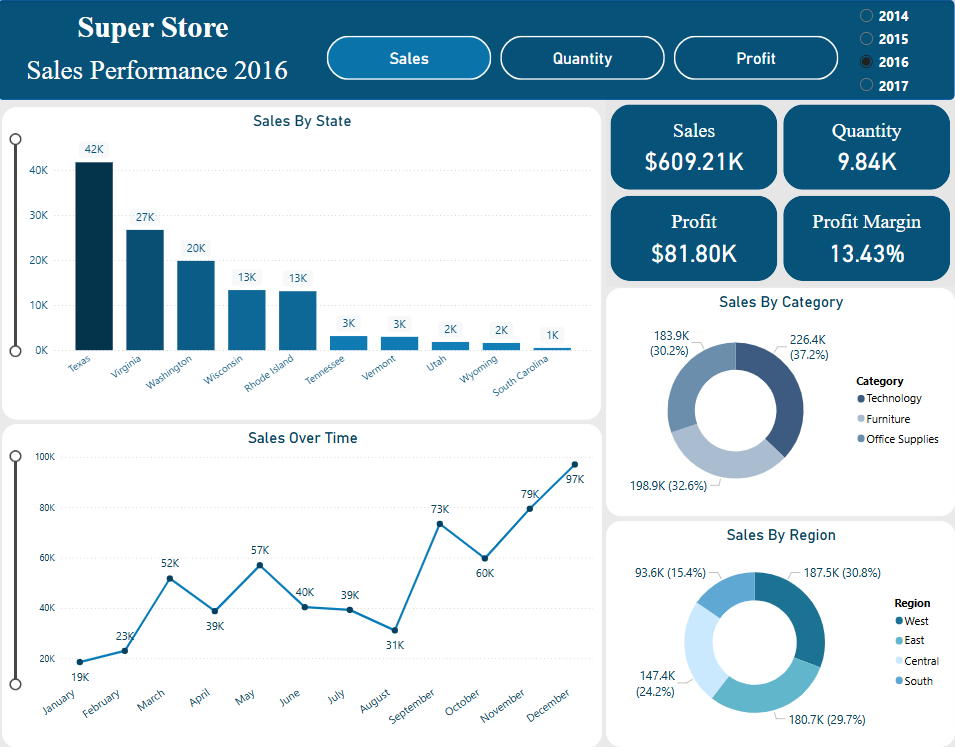

What the dashboard file says about the page in this screenshot:
{"tool":"powerbi","page":{"name":"Super Store Performance","canvas":[1280,1000],"ordinal":0},"visuals":[{"type":"shape","box":[0,0,1280,123.5],"z":0},{"type":"advancedSlicerVisual","fields":{"Values":["Slc_Values.Values"]},"box":[429.2,27.3,694.6,78.9],"z":1000},{"type":"card","fields":{"Values":["Mesures._Report title"]},"box":[33.4,0,359.4,77.3],"z":2000},{"type":"slicer","fields":{"Values":["Super_Store.Order Date.Variation.Date Hierarchy.Year"]},"box":[1139,12.1,141,110.7],"z":3000},{"type":"cardVisual","fields":{"Data":["Mesures.Sales","Mesures.Quantity","Mesures.Profit","Mesures.GP%"]},"box":[812.9,125.9,467.1,248.7],"z":4000},{"type":"lineChart","fields":{"Category":["Super_Store.Order Date.Variation.Date Hierarchy.Month"],"Y":["Mesures.S_YTD"]},"box":[4.8,566.2,802,433.1],"z":5000},{"type":"donutChart","fields":{"Y":["Mesures.S_YTD"],"Category":["Super_Store.Region"]},"box":[813.2,697.7,466.8,301.6],"z":6000},{"type":"donutChart","fields":{"Y":["Mesures.S_YTD"],"Category":["Super_Store.Segment"]},"box":[101.6,131.9,467.1,313.9],"z":7000},{"type":"columnChart","fields":{"Y":["Mesures.S_YTD"],"Category":["Super_Store.State"]},"box":[4.8,131.5,802,429.9],"z":8000},{"type":"card","fields":{"Values":["Mesures._Report title2"]},"box":[4.5,56.1,417.1,62.2],"z":9000},{"type":"donutChart","fields":{"Y":["Mesures.S_YTD"],"Category":["Super_Store.Category"]},"box":[812.9,374.6,467.1,313.9],"z":10000}]}

Visuals, with their boxes in screenshot pixels (x1, y1, x2, y2), scaled from the page's 1280x1000 canvas onto the 955x747 screenshot:
shape: [0,0,954,92]
advancedSlicerVisual - Slc_Values.Values: [320,20,838,79]
card - Mesures._Report title: [25,0,293,58]
slicer - Super_Store.Order Date.Variation.Date Hierarchy.Year: [850,9,954,92]
cardVisual - Mesures.Sales x Mesures.Quantity: [606,94,954,280]
lineChart - Super_Store.Order Date.Variation.Date Hierarchy.Month x Mesures.S_YTD: [4,423,602,746]
donutChart - Mesures.S_YTD x Super_Store.Region: [607,521,954,746]
donutChart - Mesures.S_YTD x Super_Store.Segment: [76,99,424,333]
columnChart - Mesures.S_YTD x Super_Store.State: [4,98,602,419]
card - Mesures._Report title2: [3,42,315,88]
donutChart - Mesures.S_YTD x Super_Store.Category: [606,280,954,514]
